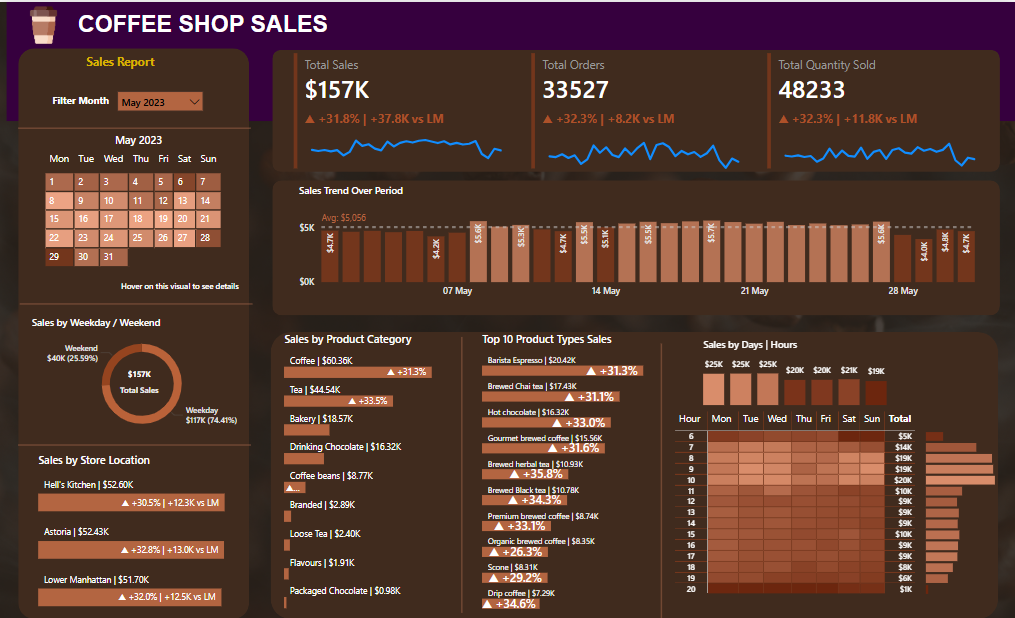

Layout of this report page (visuals, bound fields, positions):
{"tool":"powerbi","page":{"name":"6 month sales","canvas":[1400,850],"ordinal":0},"visuals":[{"type":"shape","box":[10,0,1390,164],"z":0},{"type":"cardVisual","fields":{"Data":["Transactions.Total Orders"]},"box":[732,70,300,164.8],"z":0,"group":"g2"},{"type":"cardVisual","fields":{"Data":["Transactions.Total Quantity Sold"]},"box":[1056,70,300,164.8],"z":0,"group":"g3"},{"type":"cardVisual","fields":{"Data":["Transactions.Total Sales"]},"box":[405.6,70.4,300,164.8],"z":0,"group":"g1"},{"type":"shape","box":[25,63.6,318.2,786.4],"z":1000},{"type":"lineChart","fields":{"Category":["Date Table.Date.Variation.Date Hierarchy.Year","Date Table.Date.Variation.Date Hierarchy.Quarter","Date Table.Date.Variation.Date Hierarchy.Month","Date Table.Date.Variation.Date Hierarchy.Day"],"Y":["Transactions.Total Orders"]},"box":[732,149.6,300,85.2],"z":1000,"group":"g2"},{"type":"lineChart","fields":{"Category":["Date Table.Date.Variation.Date Hierarchy.Year","Date Table.Date.Variation.Date Hierarchy.Quarter","Date Table.Date.Variation.Date Hierarchy.Month","Date Table.Date.Variation.Date Hierarchy.Day"],"Y":["Transactions.Total Quantity Sold"]},"box":[1056,149.6,300,85.2],"z":1000,"group":"g3"},{"type":"lineChart","fields":{"Category":["Date Table.Date.Variation.Date Hierarchy.Year","Date Table.Date.Variation.Date Hierarchy.Quarter","Date Table.Date.Variation.Date Hierarchy.Month","Date Table.Date.Variation.Date Hierarchy.Day"],"Y":["Transactions.Total Sales"]},"box":[405.6,150,300,85.2],"z":1000,"group":"g1"},{"type":"shape","box":[375,65.9,1002.3,168.2],"z":2000},{"type":"textbox","box":[102,6,364,64],"z":3000},{"type":"slicer","fields":{"Values":["Date Table.Month Year"]},"box":[156,118,128,52],"z":4000},{"type":"group","id":"g1","title":"Group 1","box":[405.6,70.4,300,164.8],"z":5000},{"type":"group","id":"g2","title":"Group 1","box":[732,70,300,166],"z":6000},{"type":"group","id":"g3","title":"Group 1","box":[1056,70,300,166],"z":7000},{"type":"pivotTable","fields":{"Columns":["Date Table.Day Name"],"Values":["Min(Date Table.Day Number)"],"Rows":["Date Table.Week Number"]},"box":[31.8,197.7,286.4,209.1],"z":8000},{"type":"card","fields":{"Values":["Min(Date Table.Month Year)"]},"box":[137.2,173.7,109.3,38.6],"z":9000},{"type":"card","fields":{"Values":["Transactions.Foot Note"]},"box":[145.8,379.5,201.5,27.9],"z":10000},{"type":"shape","box":[27.3,406.8,320.4,18.2],"z":11000},{"type":"shape","box":[25,165.9,320.4,15.9],"z":12000},{"type":"donutChart","title":"Sales by Weekday / Weekend","fields":{"Y":["Transactions.Total Sales"],"Category":["Date Table.Weekday / Weekend"]},"box":[38.6,431.8,313.6,170.5],"z":13000},{"type":"card","fields":{"Values":["Transactions.Total Sales"]},"box":[132,498,120,50],"z":14000},{"type":"shape","box":[25,602.3,320.4,15.9],"z":15000},{"type":"clusteredBarChart","title":"Sales by Store Location","fields":{"Category":["Transactions.store_location"],"Y":["Transactions.Placeholder","Transactions.Total Sales"]},"box":[47.7,620.5,295.5,220.5],"z":16000},{"type":"shape","box":[375,245.5,1002.3,186.4],"z":17000},{"type":"shape","box":[372.7,454.5,1002.3,395.4],"z":18000},{"type":"columnChart","title":"Sales Trend Over Period","fields":{"Y":["Transactions.Total Sales"],"Category":["Transactions.transaction_date"]},"box":[406,250,950,166],"z":19000},{"type":"clusteredBarChart","title":"Sales by Product Category","fields":{"Y":["Transactions.Placeholder","Transactions.Total Sales"],"Category":["Transactions.product_category"]},"box":[386.4,454.5,245.4,386.4],"z":20000},{"type":"shape","box":[624.4,462.2,22.2,380],"z":21000},{"type":"shape","box":[900,470,22,380],"z":22000},{"type":"clusteredBarChart","title":"Top 10 Product Types Sales","fields":{"Y":["Transactions.Placeholder","Transactions.Total Sales"],"Category":["Transactions.product_type"]},"box":[658.7,454.3,267.4,387],"z":23000},{"type":"pivotTable","fields":{"Rows":["Transactions.Hour"],"Columns":["Date Table.Day Name"],"Values":["Transactions.Total Sales"]},"box":[926,560,348,270],"z":24000},{"type":"clusteredBarChart","fields":{"Category":["Transactions.Hour"],"Y":["Transactions.Total Sales"]},"box":[1270.5,579.5,106.8,240.9],"z":25000},{"type":"clusteredColumnChart","title":" Sales by Days | Hours","fields":{"Y":["Transactions.Total Sales"],"Category":["Date Table.Day Name"]},"box":[963.6,461.4,263.6,100],"z":26000},{"type":"textbox","box":[40.9,120.5,136.4,45.5],"z":27000},{"type":"textbox","box":[113.6,65.9,127.3,38.6],"z":27001},{"type":"image","box":[29.5,0,61.4,63.6],"z":27002}]}

Visuals, with their boxes in screenshot pixels (x1, y1, x2, y2), scaled from the page's 1400x850 canvas onto the 1015x618 screenshot:
shape: [left=7, top=0, right=1014, bottom=119]
cardVisual - Transactions.Total Orders: [left=531, top=51, right=748, bottom=171]
cardVisual - Transactions.Total Quantity Sold: [left=766, top=51, right=983, bottom=171]
cardVisual - Transactions.Total Sales: [left=294, top=51, right=512, bottom=171]
shape: [left=18, top=46, right=249, bottom=617]
lineChart - Date Table.Date.Variation.Date Hierarchy.Year x Date Table.Date.Variation.Date Hierarchy.Quarter: [left=531, top=109, right=748, bottom=171]
lineChart - Date Table.Date.Variation.Date Hierarchy.Year x Date Table.Date.Variation.Date Hierarchy.Quarter: [left=766, top=109, right=983, bottom=171]
lineChart - Date Table.Date.Variation.Date Hierarchy.Year x Date Table.Date.Variation.Date Hierarchy.Quarter: [left=294, top=109, right=512, bottom=171]
shape: [left=272, top=48, right=999, bottom=170]
textbox: [left=74, top=4, right=338, bottom=51]
slicer - Date Table.Month Year: [left=113, top=86, right=206, bottom=124]
"Group 1" group: [left=294, top=51, right=512, bottom=171]
"Group 1" group: [left=531, top=51, right=748, bottom=172]
"Group 1" group: [left=766, top=51, right=983, bottom=172]
pivotTable - Date Table.Day Name x Min(Date Table.Day Number): [left=23, top=144, right=231, bottom=296]
card - Min(Date Table.Month Year): [left=99, top=126, right=179, bottom=154]
card - Transactions.Foot Note: [left=106, top=276, right=252, bottom=296]
shape: [left=20, top=296, right=252, bottom=309]
shape: [left=18, top=121, right=250, bottom=132]
"Sales by Weekday / Weekend" donutChart: [left=28, top=314, right=255, bottom=438]
card - Transactions.Total Sales: [left=96, top=362, right=183, bottom=398]
shape: [left=18, top=438, right=250, bottom=449]
"Sales by Store Location" clusteredBarChart: [left=35, top=451, right=249, bottom=611]
shape: [left=272, top=178, right=999, bottom=314]
shape: [left=270, top=330, right=997, bottom=617]
"Sales Trend Over Period" columnChart: [left=294, top=182, right=983, bottom=302]
"Sales by Product Category" clusteredBarChart: [left=280, top=330, right=458, bottom=611]
shape: [left=453, top=336, right=469, bottom=612]
shape: [left=652, top=342, right=668, bottom=617]
"Top 10 Product Types Sales" clusteredBarChart: [left=478, top=330, right=671, bottom=612]
pivotTable - Transactions.Hour x Date Table.Day Name: [left=671, top=407, right=924, bottom=603]
clusteredBarChart - Transactions.Hour x Transactions.Total Sales: [left=921, top=421, right=999, bottom=596]
" Sales by Days | Hours" clusteredColumnChart: [left=699, top=335, right=890, bottom=408]
textbox: [left=30, top=88, right=129, bottom=121]
textbox: [left=82, top=48, right=175, bottom=76]
image: [left=21, top=0, right=66, bottom=46]
